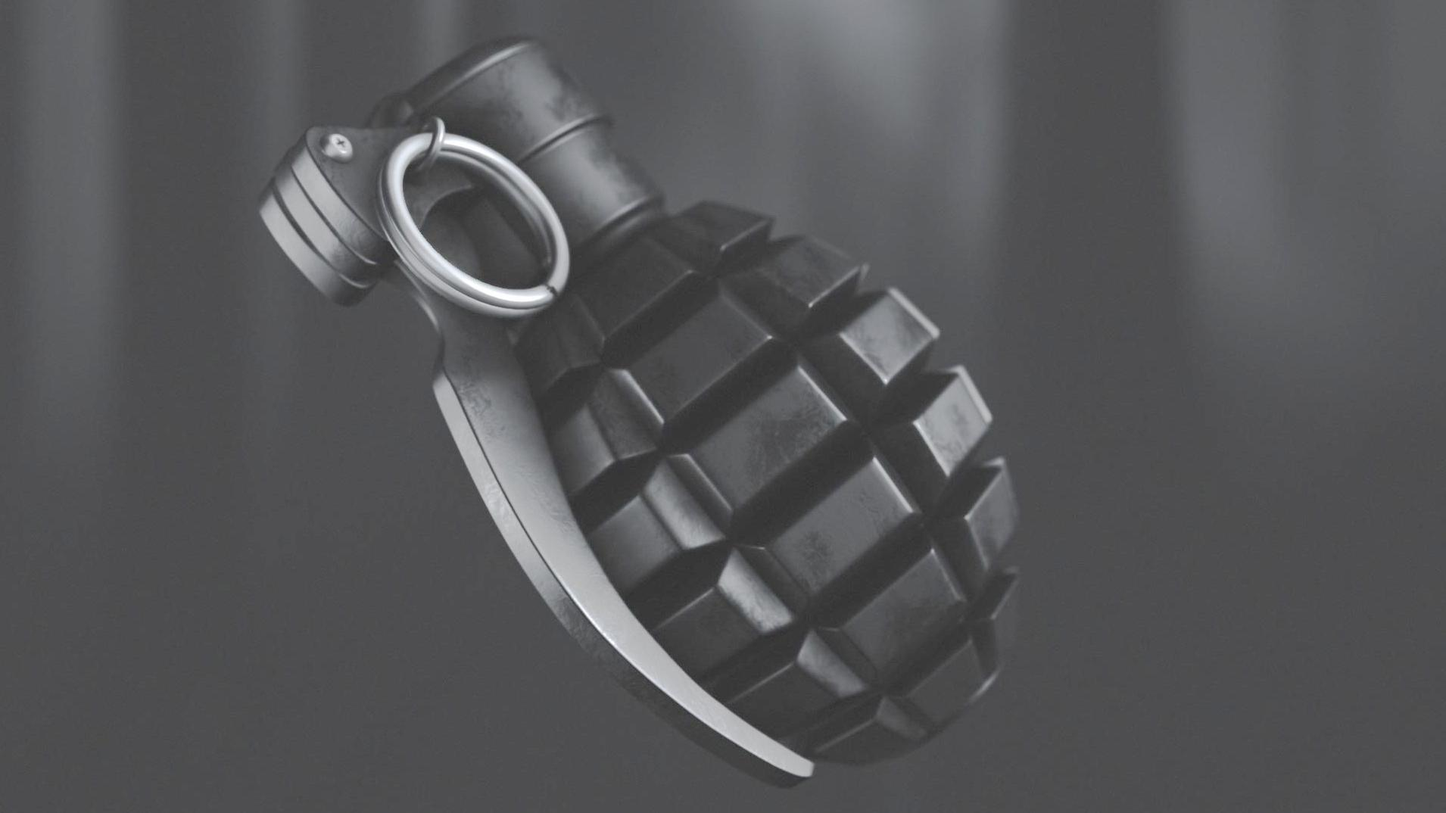Grenade: (258, 36, 1024, 780)
